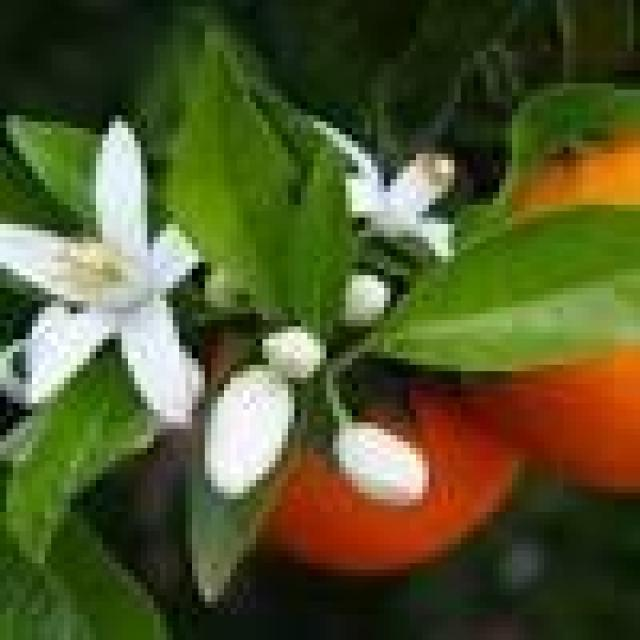Bunga: (7, 122, 212, 428), (314, 115, 468, 269), (204, 371, 294, 499), (326, 422, 429, 518), (262, 327, 326, 378), (346, 275, 390, 320)
Jeruk Sudah Matang: (249, 294, 532, 582), (461, 108, 640, 500)
